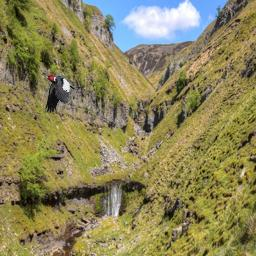Woodpecker: (44, 74, 77, 113)
